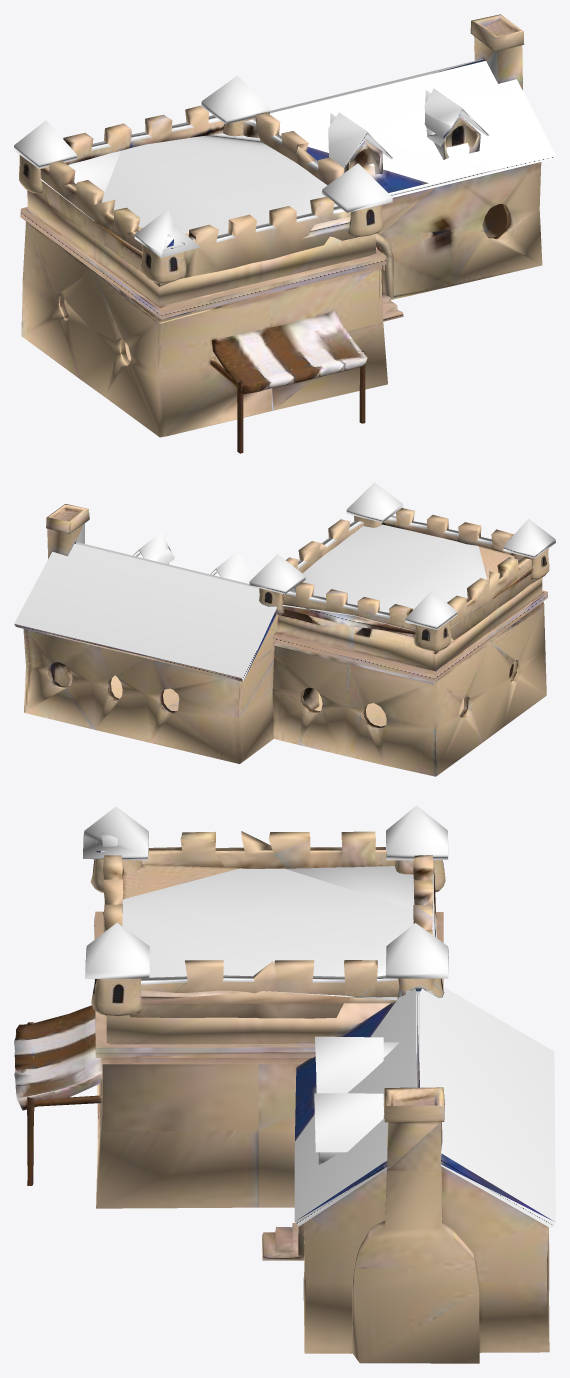
3 views of the same model, one above another, from view 1: azimuth 30°, elevation 25°; view 2: azimuth 150°, elevation 25°; view 3: azimuth 270°, elevation 25° (orthographic). The views are drawn at different scales.
Parts seen in each view (by area): view 1: castle; view 2: castle; view 3: castle.
Boxes of the visible parts, x1,y1,x2,y2 form: castle: [14, 14, 555, 453]; castle: [14, 482, 555, 776]; castle: [14, 805, 555, 1363].
Bounding box in the file's own units: 2.9 × 1.3 × 2.27.
Materials: 2 (1 with a texture image).
